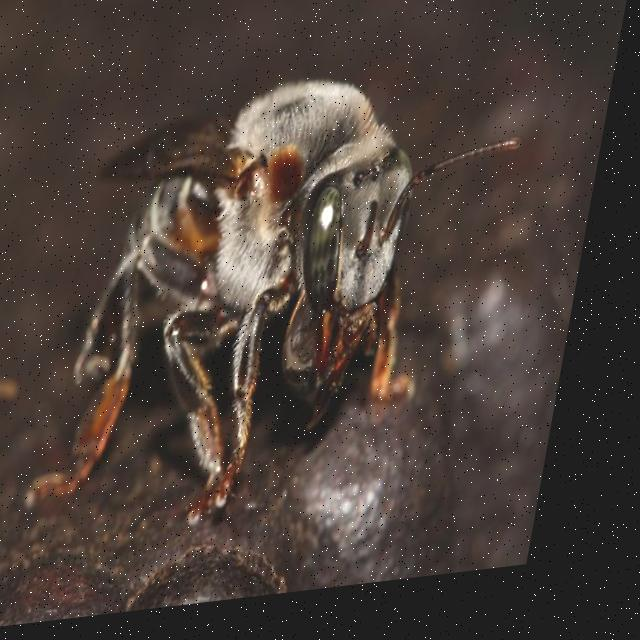Meliponula: (50, 57, 530, 532)
